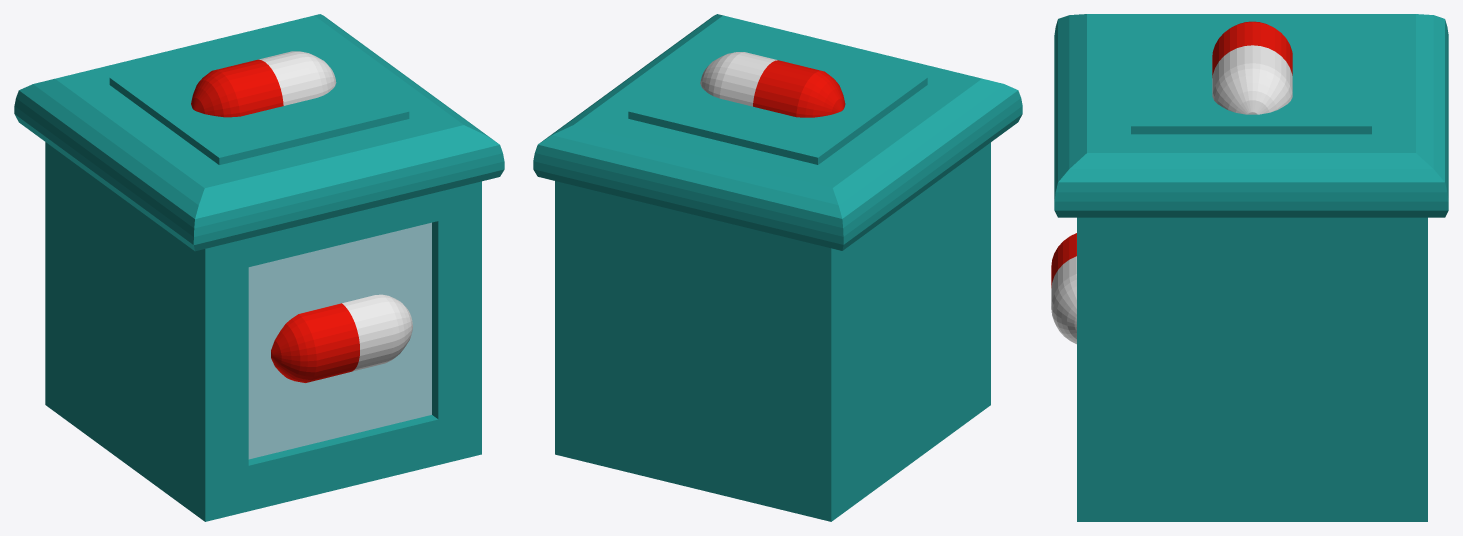
Rendered from hap.fbx.
3 views of the same model, side by side, from view 1: azimuth 30°, elevation 25°; view 2: azimuth 150°, elevation 25°; view 3: azimuth 270°, elevation 25° (orthographic). The views are drawn at different scales.
Parts seen in each view (by area): view 1: haplık, kapak; view 2: haplık, kapak; view 3: haplık, kapak.
Boxes of the visible parts, x1,y1,x2,y2 form: haplık: (45,142,481,521); kapak: (14,14,504,251); haplık: (555,142,990,521); kapak: (533,14,1022,250); haplık: (1051,217,1427,521); kapak: (1054,14,1448,217).
Bounding box in the file's own units: 346 × 390 × 348.
